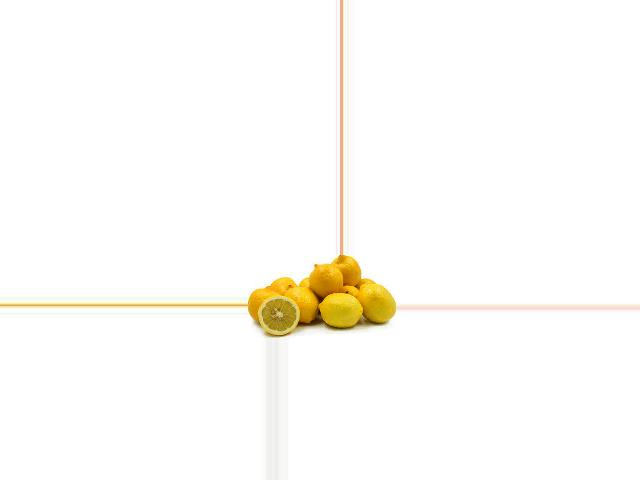lemon: (250, 288, 281, 321)
